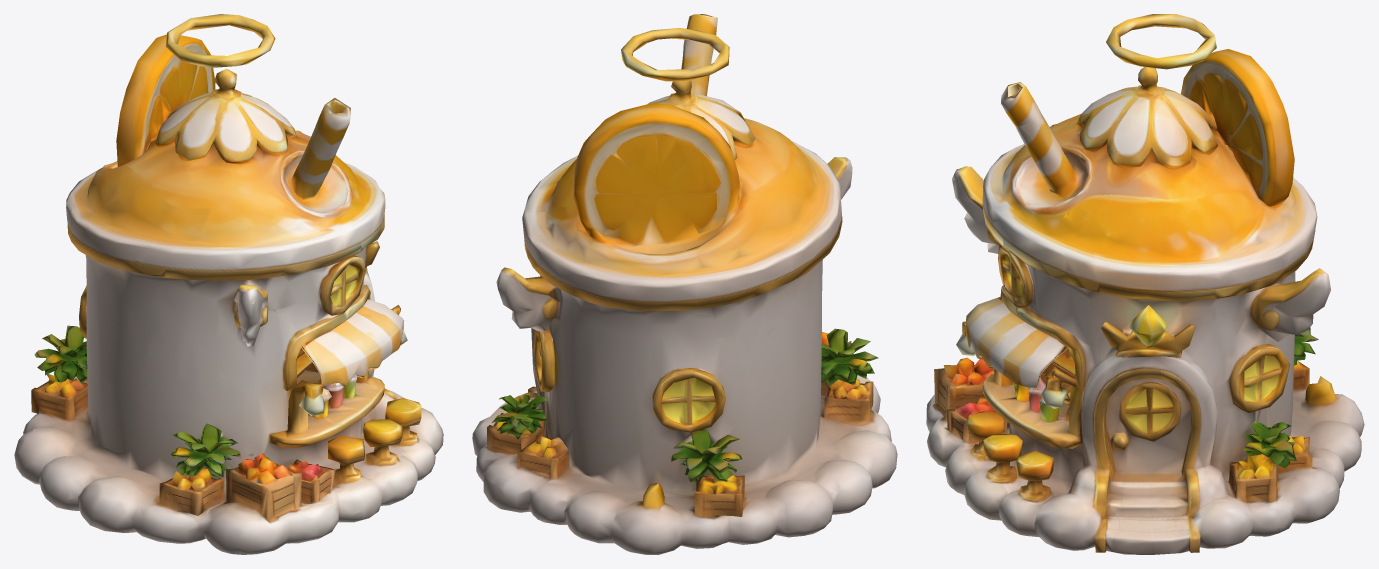
The model's file is Town_Halo_JuiceBar_raw.glb.
3 views of the same model, side by side, from view 1: azimuth 30°, elevation 25°; view 2: azimuth 150°, elevation 25°; view 3: azimuth 270°, elevation 25° (orthographic). The views are drawn at different scales.
Visible parts, largest first — view 1: tripo_node_08539f2a-9d2d-4360-9b7e-5109f9a3671f; view 2: tripo_node_08539f2a-9d2d-4360-9b7e-5109f9a3671f; view 3: tripo_node_08539f2a-9d2d-4360-9b7e-5109f9a3671f.
Boxes of the visible parts, x1,y1,x2,y2 form: tripo_node_08539f2a-9d2d-4360-9b7e-5109f9a3671f: (14, 14, 443, 554); tripo_node_08539f2a-9d2d-4360-9b7e-5109f9a3671f: (472, 14, 897, 554); tripo_node_08539f2a-9d2d-4360-9b7e-5109f9a3671f: (926, 14, 1364, 554).
Size of the model in its own units: 0.9015 by 1 by 0.9178.
1 material, 1 textured.
